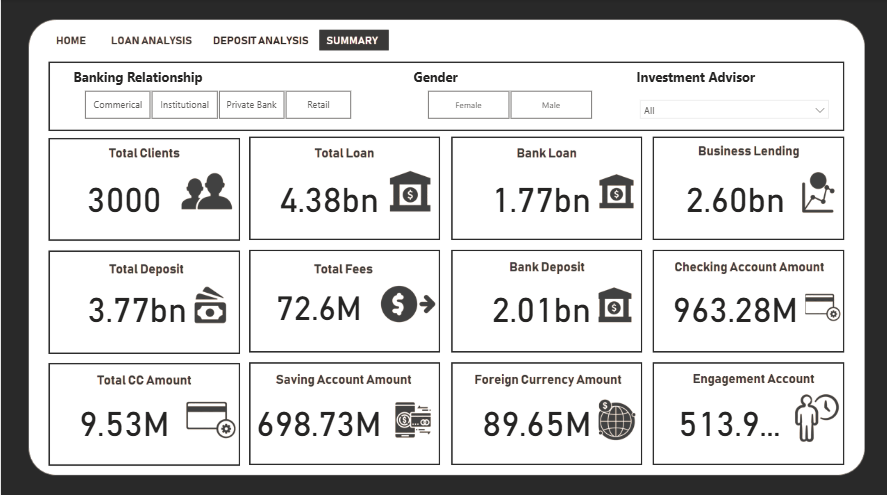

Layout of this report page (visuals, bound fields, positions):
{"tool":"powerbi","page":{"name":"Summary","canvas":[1280,720],"ordinal":4},"visuals":[{"type":"actionButton","box":[65.5,37,67.2,43.7],"z":0},{"type":"actionButton","box":[146.1,37,132.7,43.7],"z":1000},{"type":"actionButton","box":[300.7,37,149.5,43.7],"z":2000},{"type":"textbox","box":[99.1,95.7,213.3,40.3],"z":3000},{"type":"textbox","box":[589.6,95.7,92.4,40.3],"z":4000},{"type":"textbox","box":[910.4,95.7,196.5,40.3],"z":5000},{"type":"slicer","fields":{"Values":["banking_case customer.BRId"]},"box":[95.7,126,433.4,53.8],"z":6000},{"type":"slicer","fields":{"Values":["banking_case customer.GenderId"]},"box":[589.6,126,285.6,53.8],"z":7000},{"type":"slicer","fields":{"Values":["banking_case customer.IAId"]},"box":[910.4,136.1,292.3,43.7],"z":8000},{"type":"card","fields":{"Values":["CountNonNull(banking_case customer.Name)"]},"box":[95.7,253.6,164.6,60.5],"z":8001},{"type":"card","fields":{"Values":["banking_case customer.Total Loan"]},"box":[389.7,253.6,164.6,60.5],"z":8002},{"type":"card","fields":{"Values":["Sum(banking_case customer.Bank Loans)"]},"box":[695.4,253.6,164.6,60.5],"z":8003},{"type":"card","fields":{"Values":["Sum(banking_case customer.Business Lending)"]},"box":[974.3,253.6,164.6,60.5],"z":8004},{"type":"card","fields":{"Values":["banking_case customer.Toal Deposit"]},"box":[114.2,411.5,164.6,60.5],"z":8005},{"type":"card","fields":{"Values":["Sum(banking_case customer.Bank Deposits)"]},"box":[695.4,411.5,164.6,60.5],"z":8007},{"type":"card","fields":{"Values":["Sum(banking_case customer.Checking Accounts)"]},"box":[955.8,411.5,201.6,60.5],"z":8008},{"type":"card","fields":{"Values":["Sum(banking_case customer.Credit Card Balance)"]},"box":[95.7,576.2,164.6,60.5],"z":8009},{"type":"card","fields":{"Values":["Sum(banking_case customer.Saving Accounts)"]},"box":[359.5,576.2,194.9,60.5],"z":8010},{"type":"card","fields":{"Values":["Sum(banking_case customer.Foreign Currency Account)"]},"box":[682,576.2,178.1,60.5],"z":8011},{"type":"card","fields":{"Values":["Sum(banking_case customer.Estimated Income)"]},"box":[955.8,576.2,183.1,60.5],"z":8012},{"type":"textbox","box":[389.7,411.5,151.2,72.2],"z":8013}]}

Visuals, with their boxes in screenshot pixels (x1, y1, x2, y2), scaled from the page's 1280x720 canvas onto the 887x495 screenshot:
actionButton: [45,25,92,55]
actionButton: [101,25,193,55]
actionButton: [208,25,312,55]
textbox: [69,66,216,94]
textbox: [409,66,473,94]
textbox: [631,66,767,94]
slicer - banking_case customer.BRId: [66,87,367,124]
slicer - banking_case customer.GenderId: [409,87,606,124]
slicer - banking_case customer.IAId: [631,94,833,124]
card - CountNonNull(banking_case customer.Name): [66,174,180,216]
card - banking_case customer.Total Loan: [270,174,384,216]
card - Sum(banking_case customer.Bank Loans): [482,174,596,216]
card - Sum(banking_case customer.Business Lending): [675,174,789,216]
card - banking_case customer.Toal Deposit: [79,283,193,324]
card - Sum(banking_case customer.Bank Deposits): [482,283,596,324]
card - Sum(banking_case customer.Checking Accounts): [662,283,802,324]
card - Sum(banking_case customer.Credit Card Balance): [66,396,180,438]
card - Sum(banking_case customer.Saving Accounts): [249,396,384,438]
card - Sum(banking_case customer.Foreign Currency Account): [473,396,596,438]
card - Sum(banking_case customer.Estimated Income): [662,396,789,438]
textbox: [270,283,375,333]
